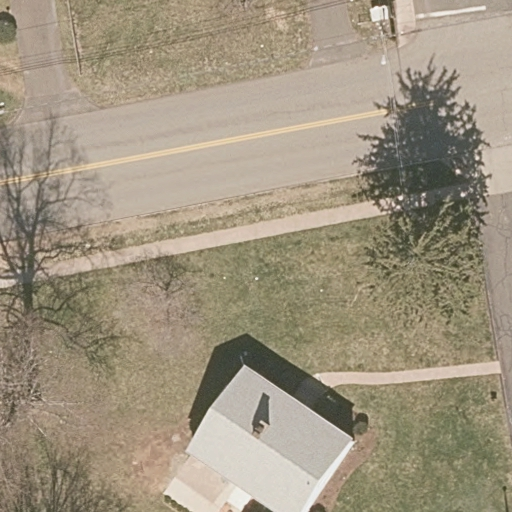DT: (371, 21, 400, 66)
